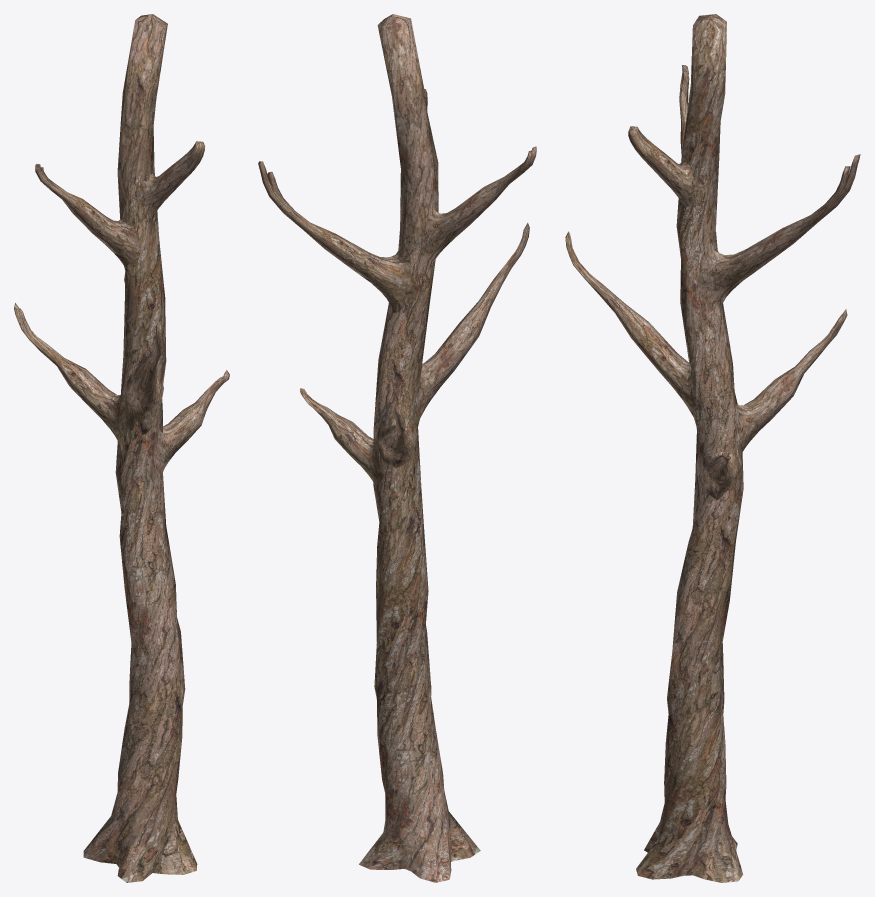
The model's file is trunk2.obj.
3 renders of one model, left to right at view 1: azimuth 30°, elevation 25°; view 2: azimuth 150°, elevation 25°; view 3: azimuth 270°, elevation 25°, orthographic. The views are drawn at different scales.
Parts seen in each view (by area): view 1: tree; view 2: tree; view 3: tree.
Part boxes in pixels (x1=…): tree: x1=14, y1=14, x2=229, y2=882; tree: x1=258, y1=14, x2=536, y2=882; tree: x1=565, y1=14, x2=860, y2=882.
Size of the model in its own units: 162 by 600 by 188.
Materials: 1 (1 with a texture image).
